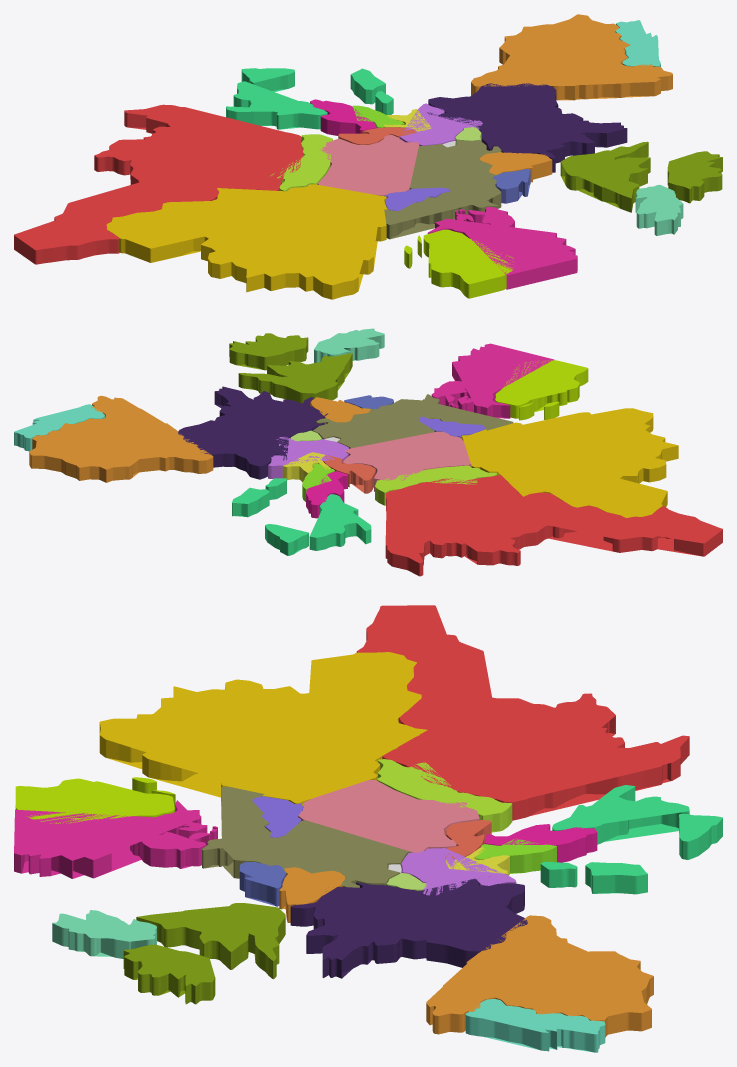
File: Carteeuropedavid03.fbx
3 renders of one model, top to bottom at view 1: azimuth 30°, elevation 25°; view 2: azimuth 150°, elevation 25°; view 3: azimuth 270°, elevation 25°, orthographic. The views are drawn at different scales.
Parts seen in each view (by area): view 1: Plane.003, Plane.023, Plane.018, Plane.012, Plane, Plane.020, Plane.022, Plane.002, Plane.021, Plane.015, Plane.016, Plane.017 (+10 smaller); view 2: Plane.023, Plane.003, Plane.018, Plane.012, Plane.020, Plane, Plane.022, Plane.002, Plane.021, Plane.015, Plane.016, Plane.011 (+10 smaller); view 3: Plane.003, Plane.023, Plane.012, Plane.018, Plane.020, Plane, Plane.022, Plane.002, Plane.015, Plane.021, Plane.019, Plane.016 (+10 smaller).
Part boxes in pixels (<box>): Plane.003: <box>106,184,387,299</box>; Plane.023: <box>14,104,303,264</box>; Plane.018: <box>471,14,672,100</box>; Plane.012: <box>427,83,627,172</box>; Plane: <box>384,140,501,239</box>; Plane.020: <box>427,207,577,289</box>; Plane.022: <box>226,68,393,129</box>; Plane.002: <box>317,134,419,195</box>; Plane.021: <box>404,229,513,298</box>; Plane.015: <box>560,141,650,212</box>; Plane.016: <box>667,151,722,203</box>; Plane.017: <box>635,184,683,235</box>; Plane.023: <box>385,475,722,576</box>; Plane.003: <box>461,408,678,517</box>; Plane.018: <box>29,395,213,482</box>; Plane.012: <box>178,386,328,479</box>; Plane.020: <box>431,343,554,418</box>; Plane: <box>313,394,513,448</box>; Plane.022: <box>232,478,371,555</box>; Plane.002: <box>343,431,471,491</box>; Plane.021: <box>495,360,588,420</box>; Plane.015: <box>238,353,352,403</box>; Plane.016: <box>229,333,308,370</box>; Plane.011: <box>375,465,496,505</box>; Plane.003: <box>99,652,427,805</box>; Plane.023: <box>356,605,689,820</box>; Plane.012: <box>290,876,527,978</box>; Plane.018: <box>426,915,653,1037</box>; Plane.020: <box>14,800,217,878</box>; Plane: <box>202,786,412,887</box>; Plane.022: <box>540,785,722,894</box>; Plane.002: <box>298,779,479,852</box>; Plane.015: <box>136,903,285,979</box>; Plane.021: <box>15,777,175,823</box>; Plane.019: <box>465,999,605,1052</box>; Plane.016: <box>123,944,215,1004</box>.
Size of the model in its own units: 494 by 10.35 by 345.
